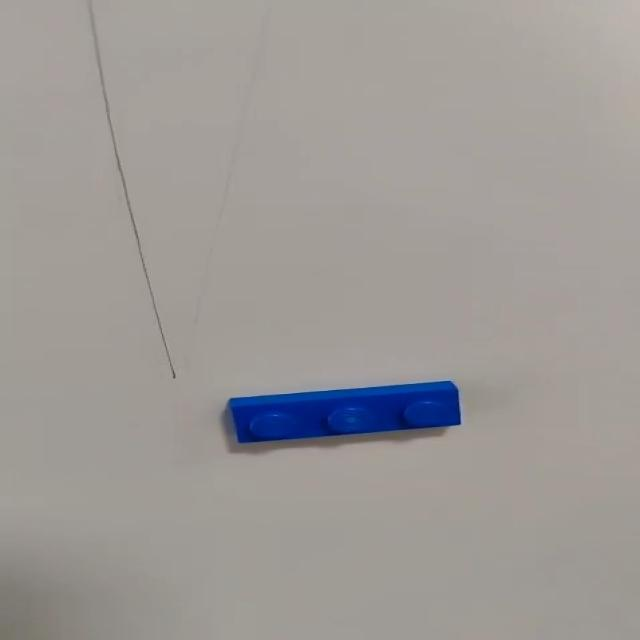C3x1x0: (223, 382, 463, 446)
